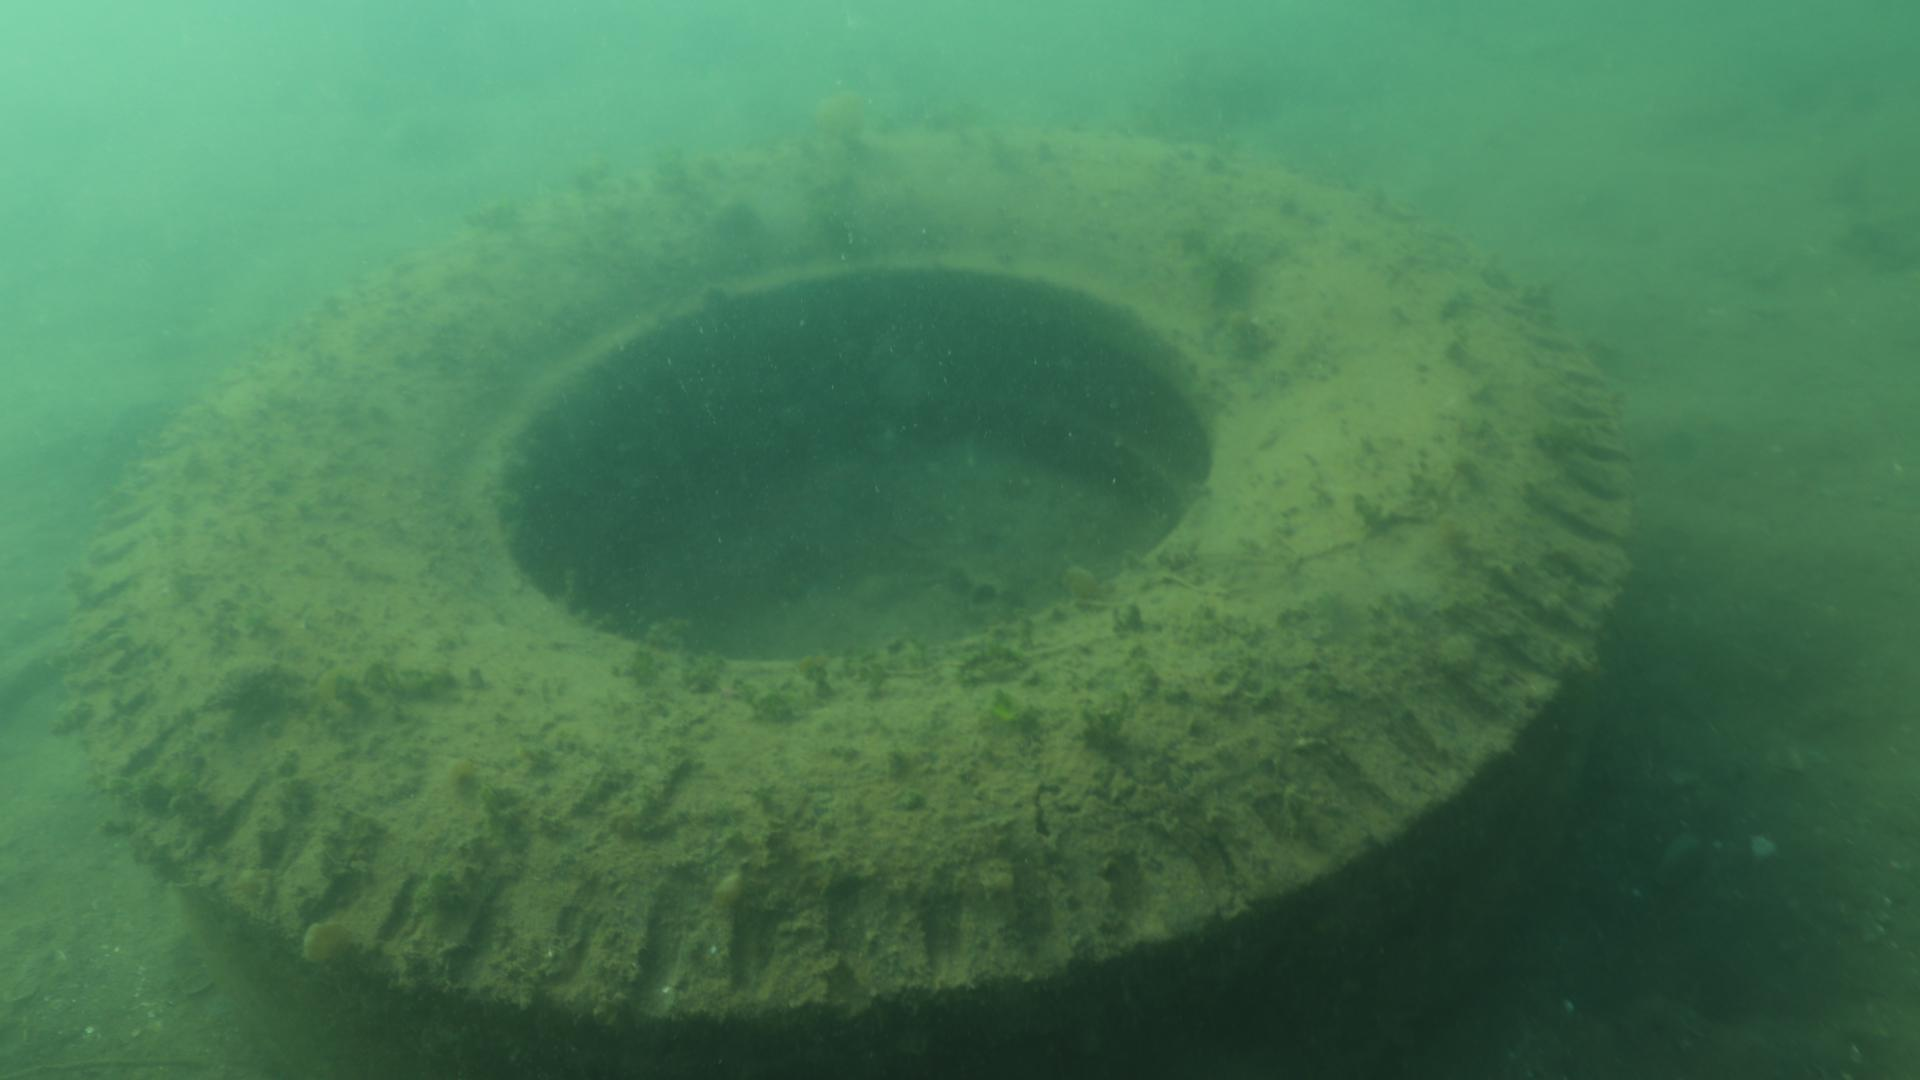tire: (67, 123, 1636, 1080)
